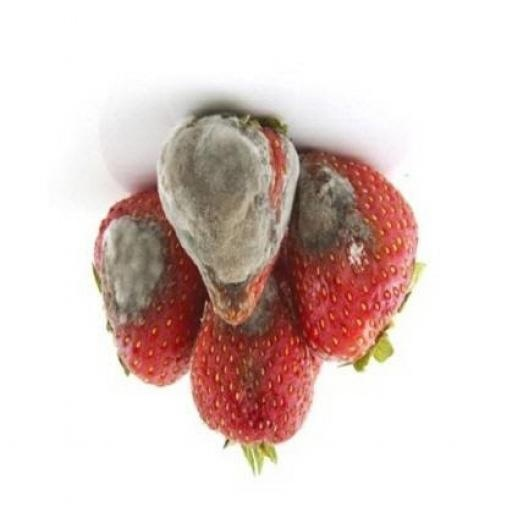Gray Mold: (155, 185, 300, 401), (95, 156, 183, 316), (198, 94, 288, 245), (283, 232, 387, 362)
